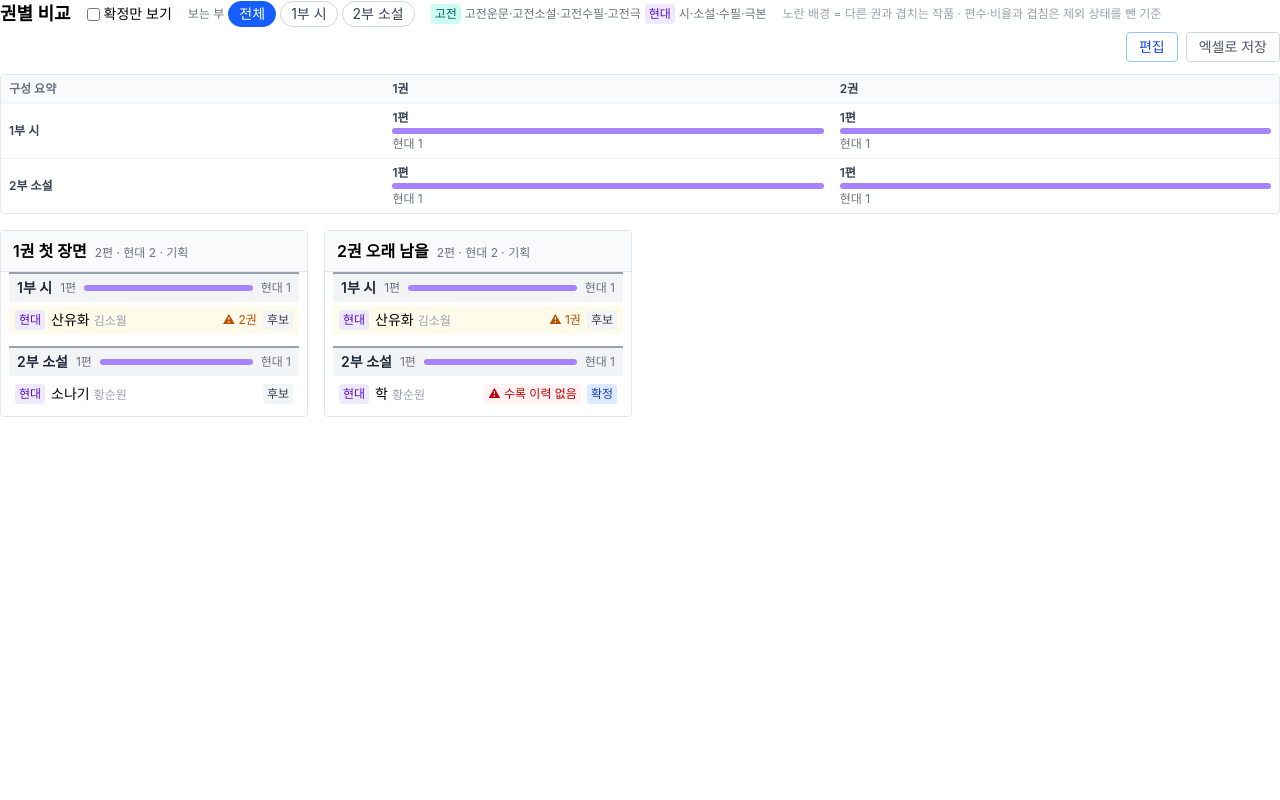
Test: 메뉴로 다른 권에 옮기면 그 권에 표시되고 편수가 바뀐다 (부는 갈래로 미리 고름)
Click the button "편집" at (1152, 47), box x1=1126 y1=32 x2=1178 y2=62
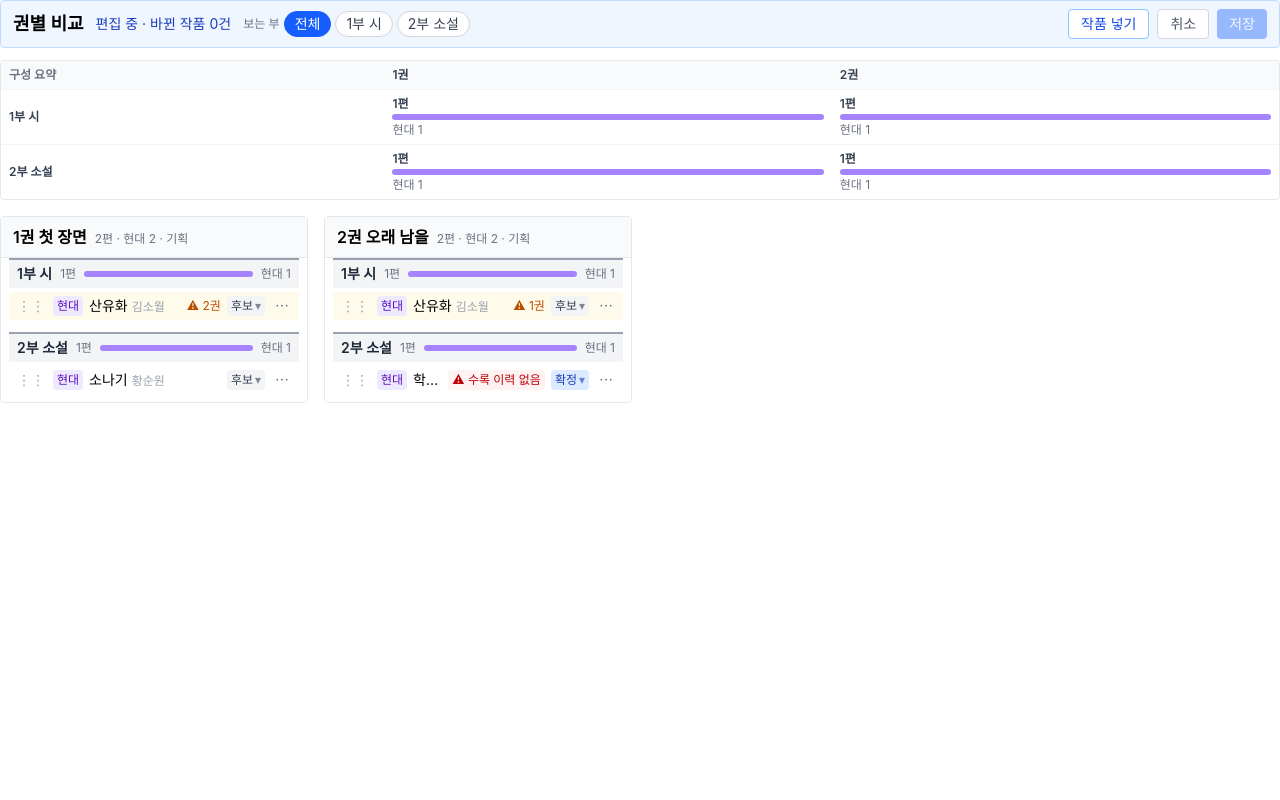
Result: the text "편집 중 · 바뀐 작품 0건" is shown at x1=96 y1=14 x2=231 y2=34
Click the button named "「소나기」 메뉴" at (282, 380), box x1=271 y1=370 x2=293 y2=390
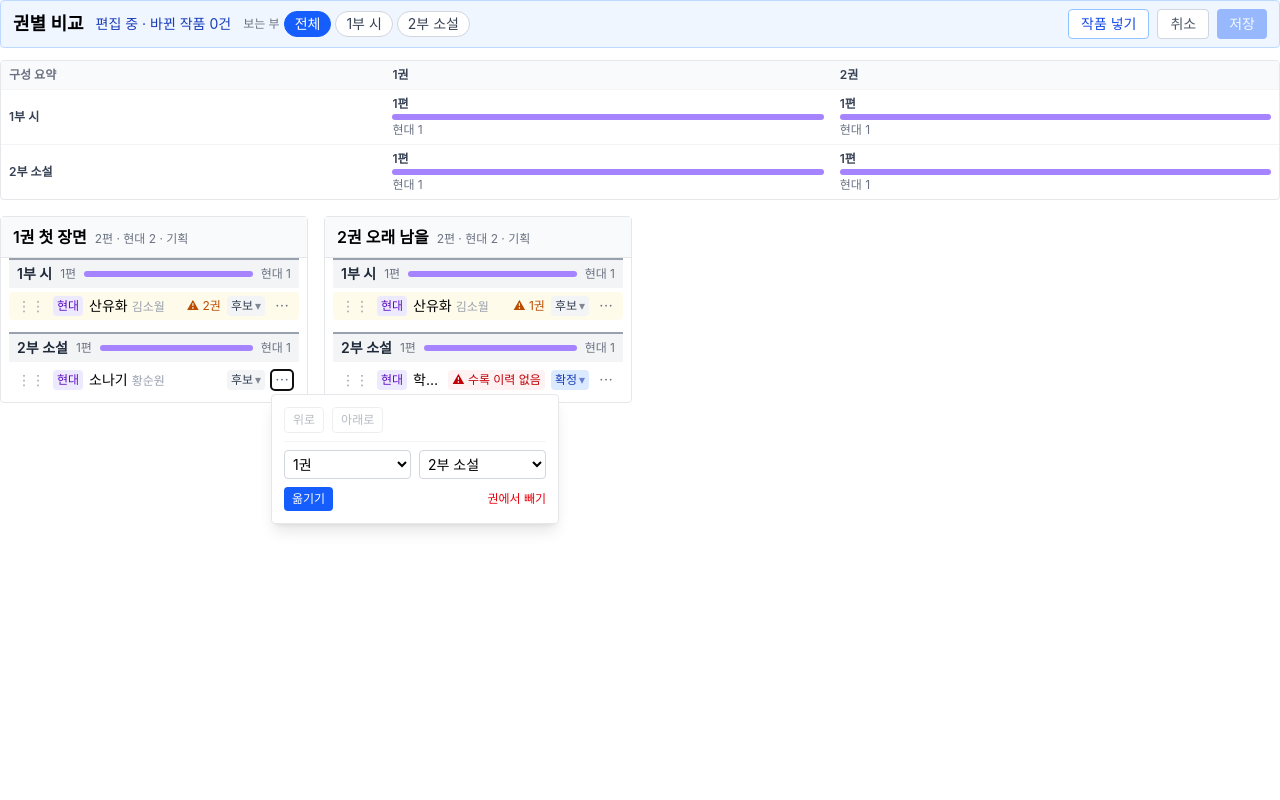
Select "2권" in the dropdown named "권" at (348, 464), box x1=284 y1=450 x2=411 y2=479
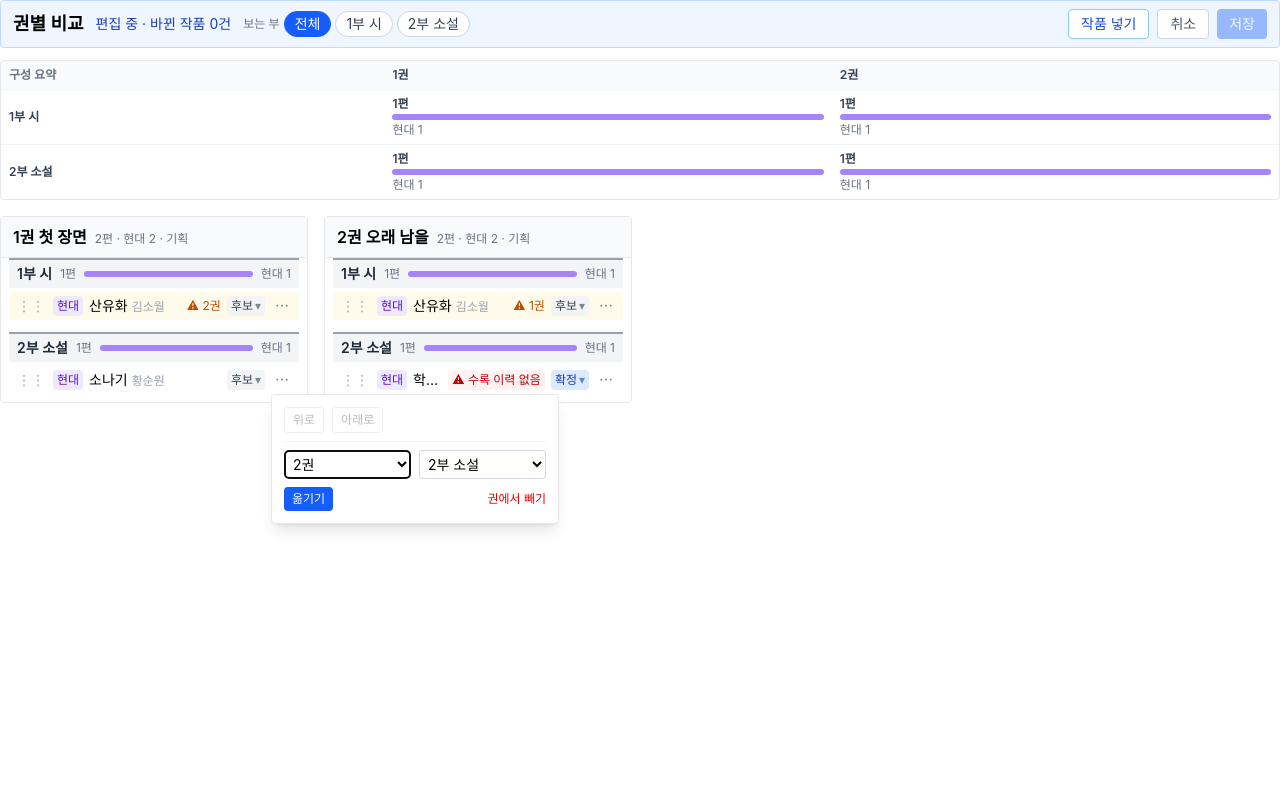
Result: the dropdown named "부" shows "2부 소설" at x1=419 y1=450 x2=546 y2=479
Click the button "옮기기" at (309, 499), box x1=284 y1=487 x2=333 y2=511
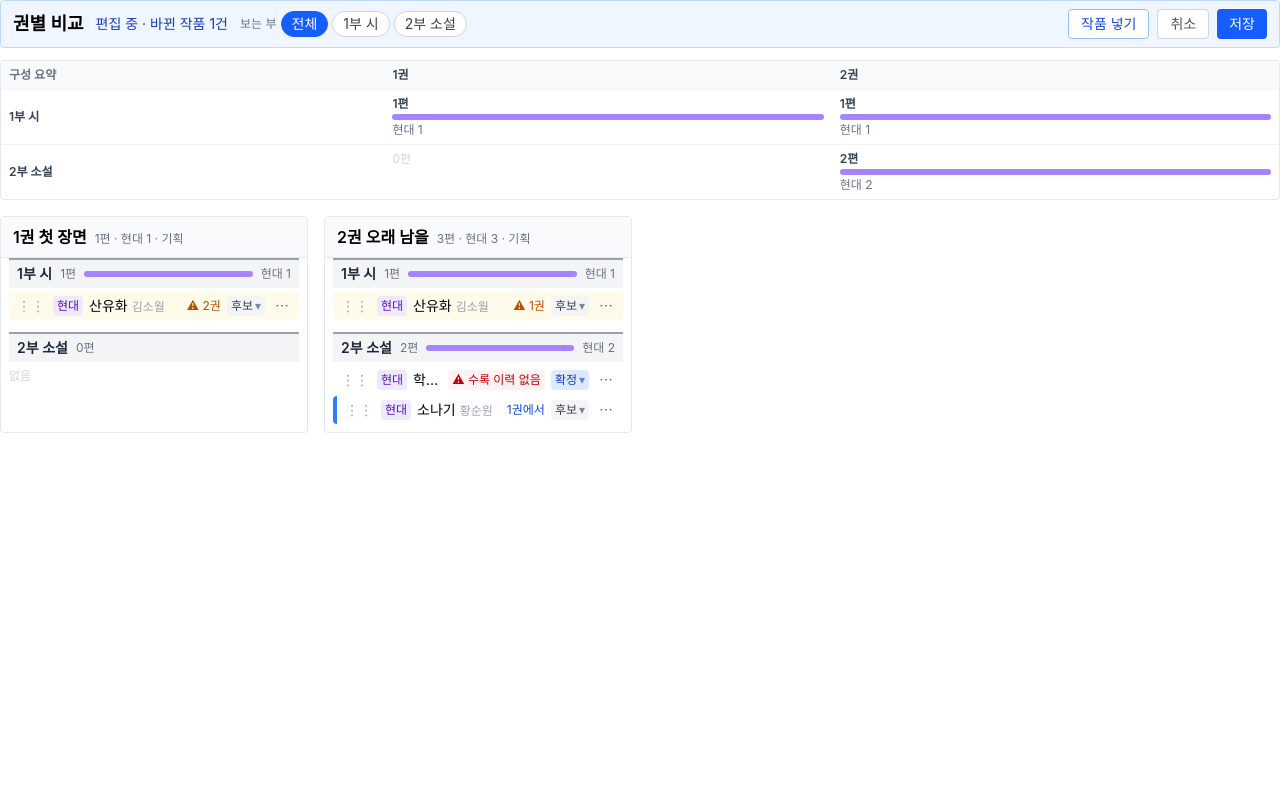
Result: the text "소나기" is shown at x1=417 y1=401 x2=456 y2=418
Result: the text "1권에서" is shown at x1=507 y1=402 x2=545 y2=418
Result: the text "1편 · 현대 1 · 기획" is shown at x1=95 y1=231 x2=184 y2=246
